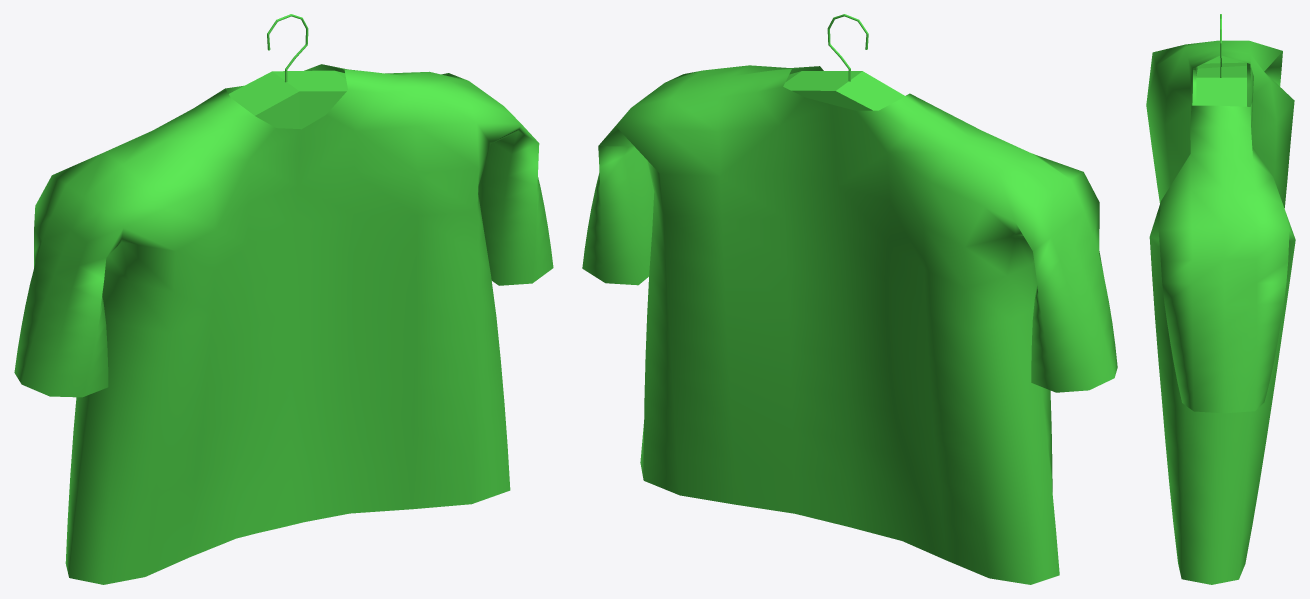
File: Hanger and Shirt.fbx
The picture shows the model from 3 angles, left to right: view 1: azimuth 30°, elevation 25°; view 2: azimuth 150°, elevation 25°; view 3: azimuth 270°, elevation 25°; orthographic projection. The views are drawn at different scales.
Parts seen in each view (by area): view 1: Shirt and Hanger; view 2: Shirt and Hanger; view 3: Shirt and Hanger.
Part boxes in pixels (<box>): Shirt and Hanger: <box>14,14,553,584</box>; Shirt and Hanger: <box>582,14,1117,584</box>; Shirt and Hanger: <box>1146,14,1295,584</box>.
Bounding box in the file's own units: 492 × 460 × 131.
